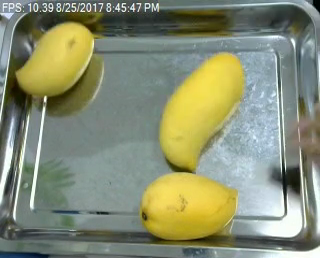Mango: (156, 49, 247, 172), (139, 171, 238, 239), (14, 17, 95, 97)
